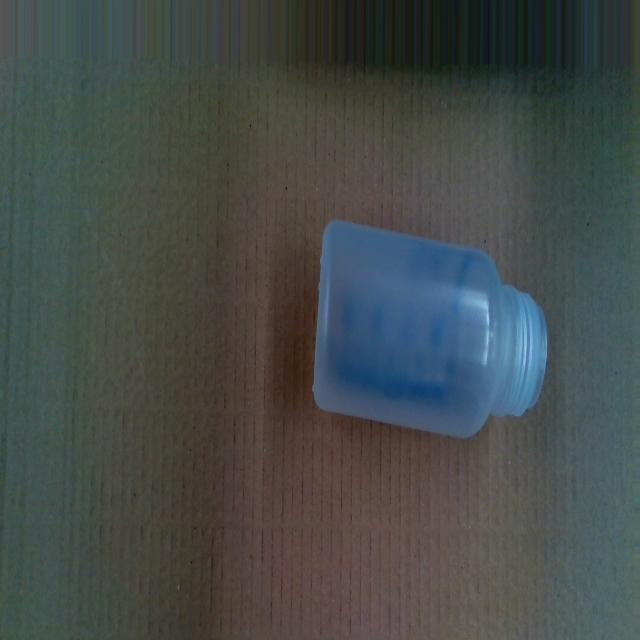bottle: (308, 223, 546, 447)
